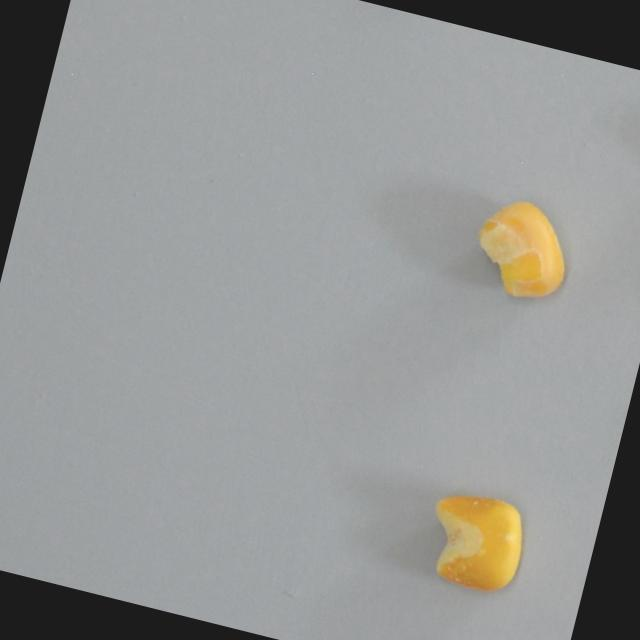pelicula: (414, 483, 533, 601), (465, 188, 581, 309)
